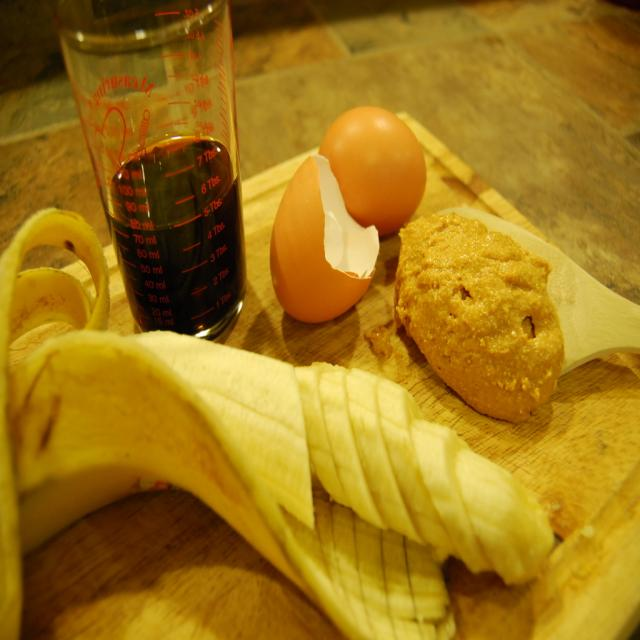Egg: (316, 106, 428, 237)
